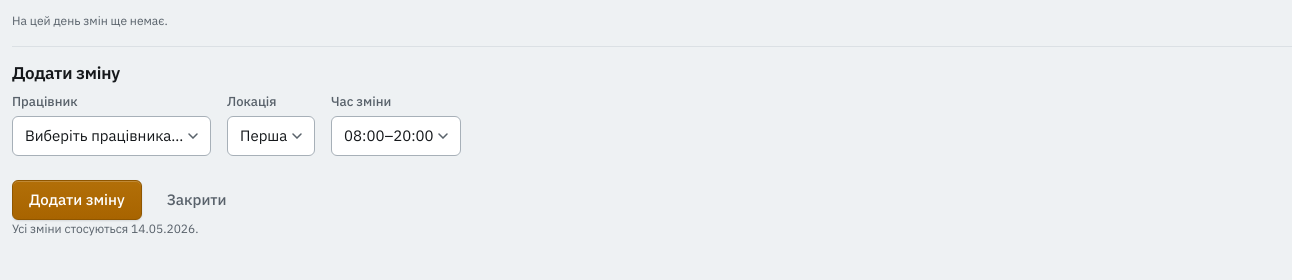
DayEditor › surfaces the API error instead of silently failing
The width and height of the screenshot is (1292, 280).
Select "Олена" in the dropdown labelled "Працівник". click: (112, 136)
box: top-left (12, 116), bottom-right (211, 156)
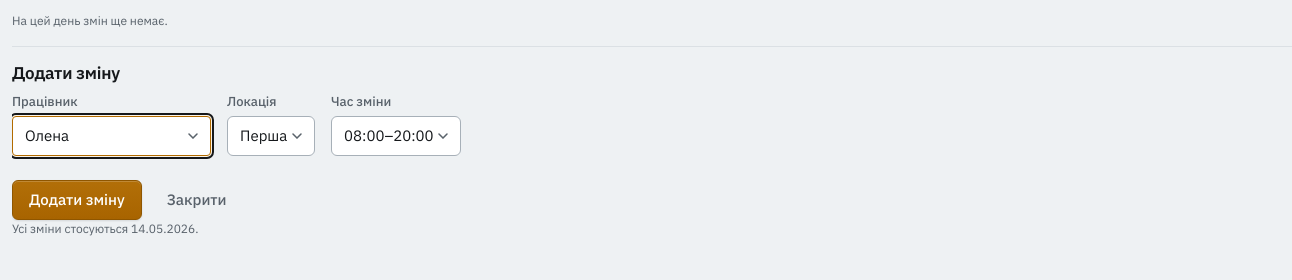
Click the button "Додати зміну". click: (77, 200)
box: top-left (12, 180), bottom-right (142, 220)
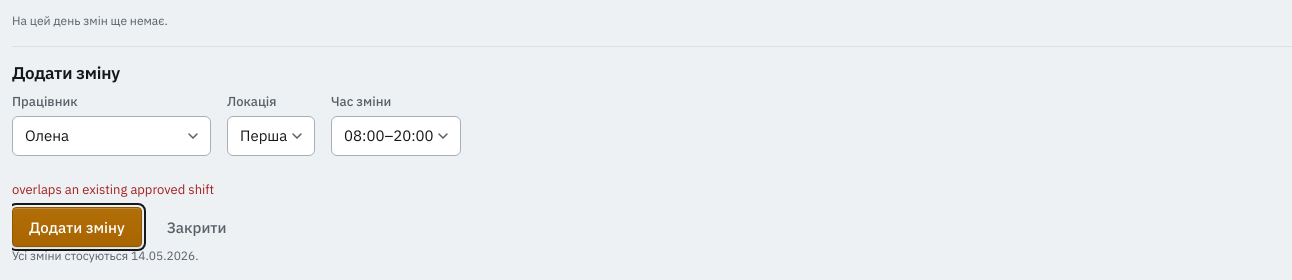
Expected: the text "overlaps an existing approved shift" is shown, top-left (12, 181), bottom-right (214, 198)
